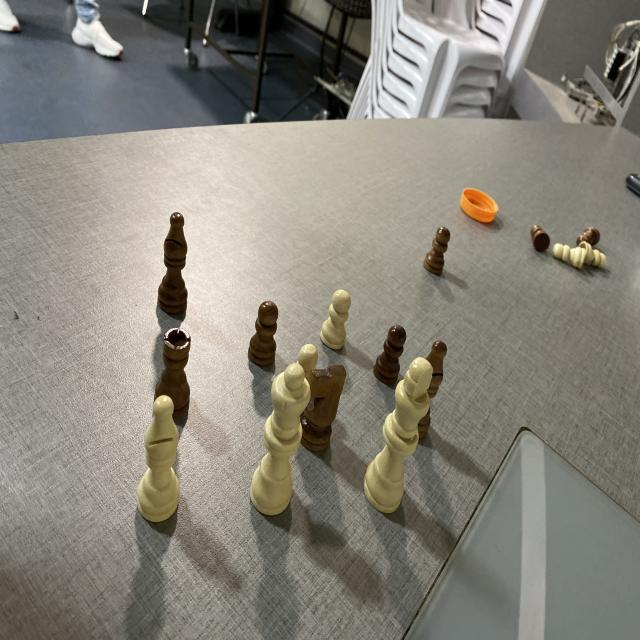Black-Bishop: (403, 340, 452, 438), (157, 210, 188, 310)
Black-Knight: (302, 366, 350, 453)
Black-Pawn: (374, 324, 408, 382), (249, 298, 278, 362), (423, 225, 451, 277), (529, 224, 554, 252), (576, 226, 601, 246)
Black-Rook: (158, 327, 192, 405)
White-Bishop: (140, 392, 182, 520)
White-King: (364, 357, 435, 514)
White-Pawn: (322, 289, 353, 350), (554, 242, 586, 270), (585, 241, 610, 268), (298, 343, 319, 367)
White-Queen: (250, 368, 310, 519)
